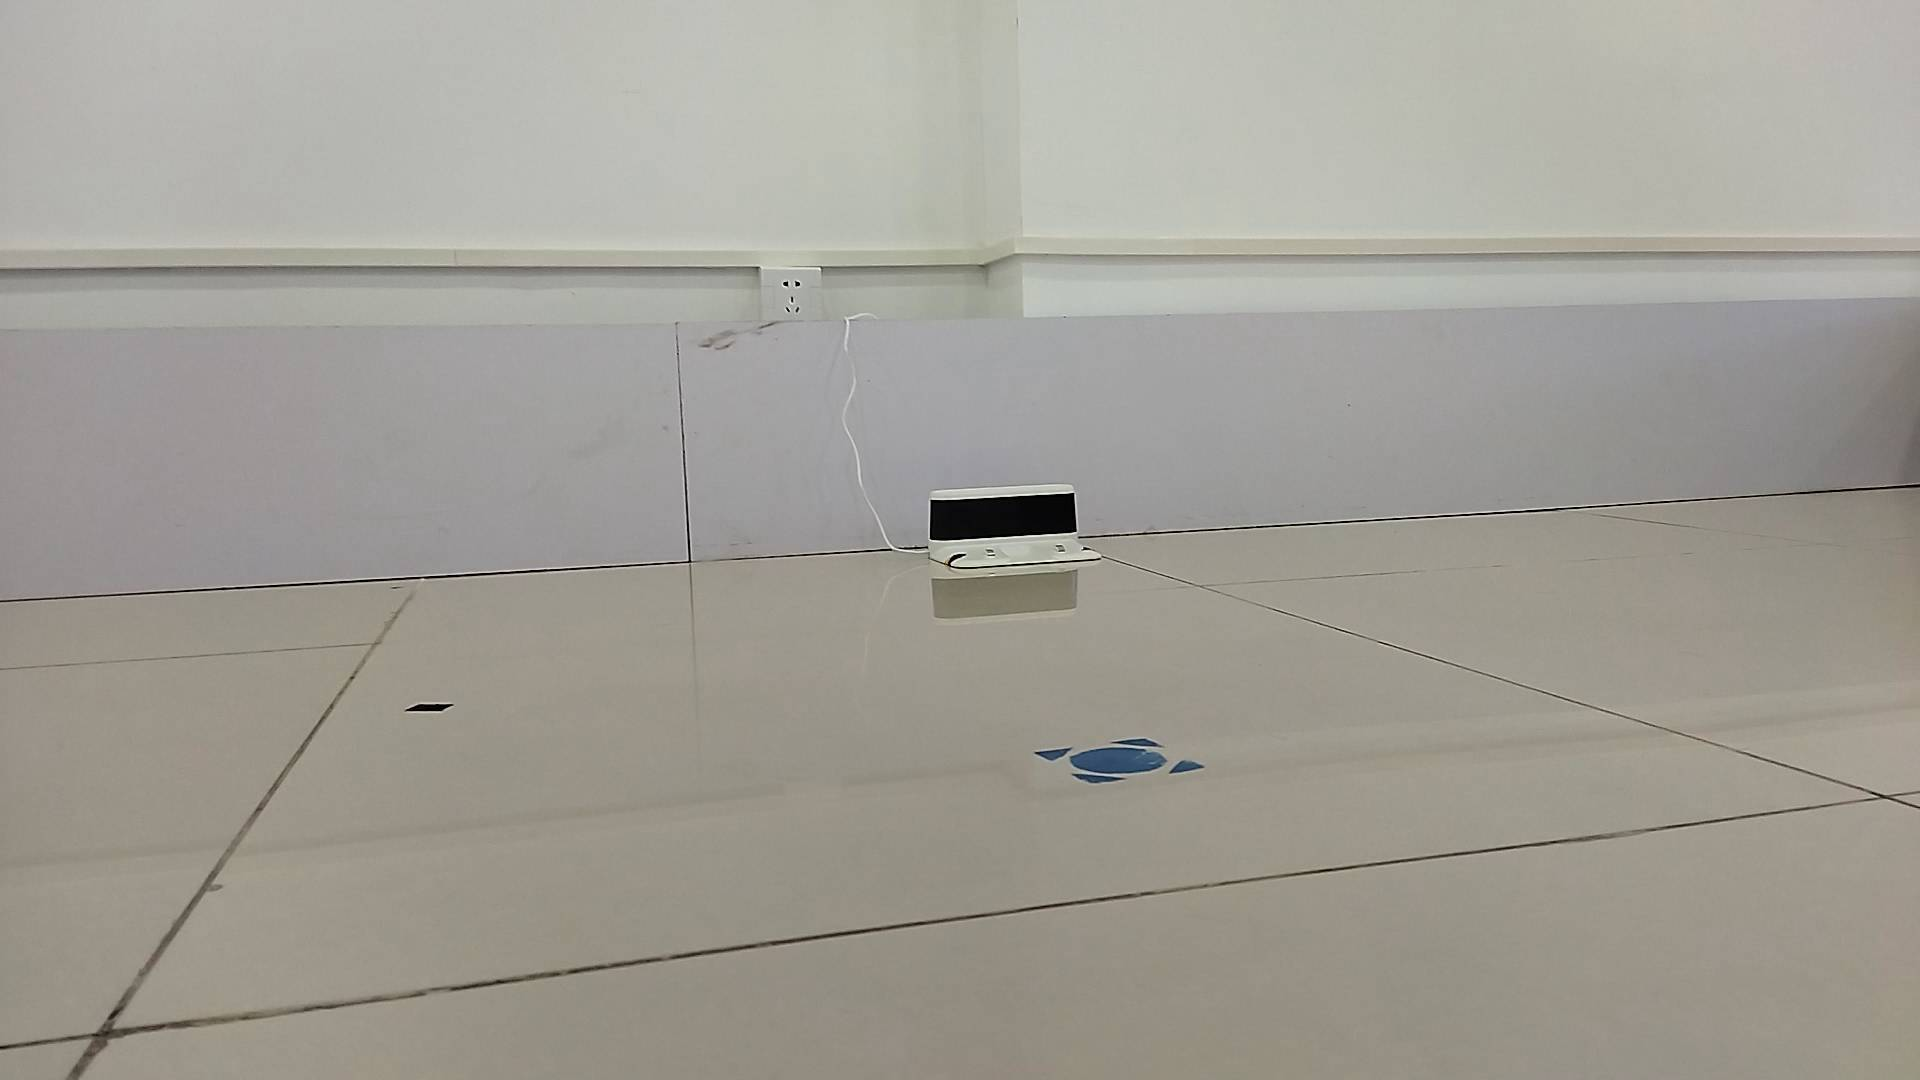recharge seat: (926, 481, 1105, 570)
